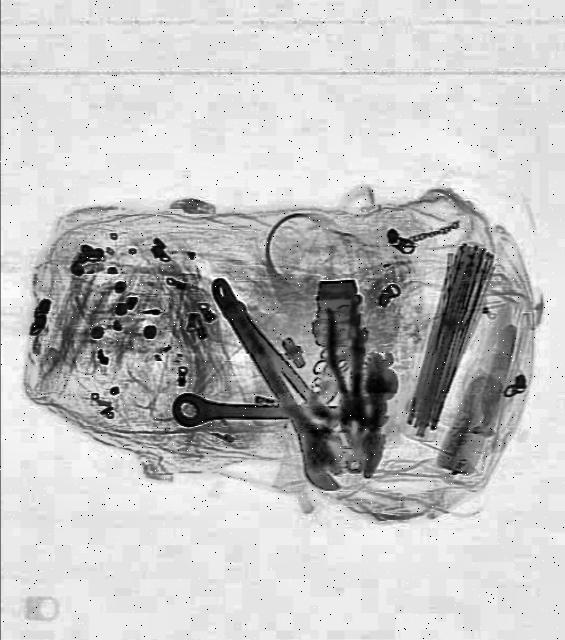Pliers: (322, 302, 376, 440)
Wrench: (197, 267, 363, 499)
